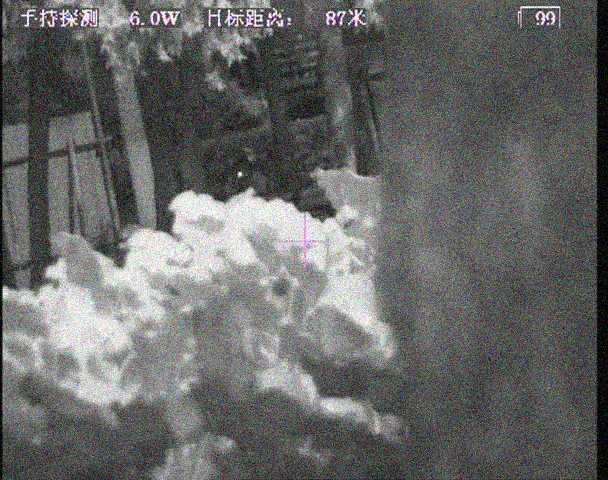my: (237, 170, 246, 179)
